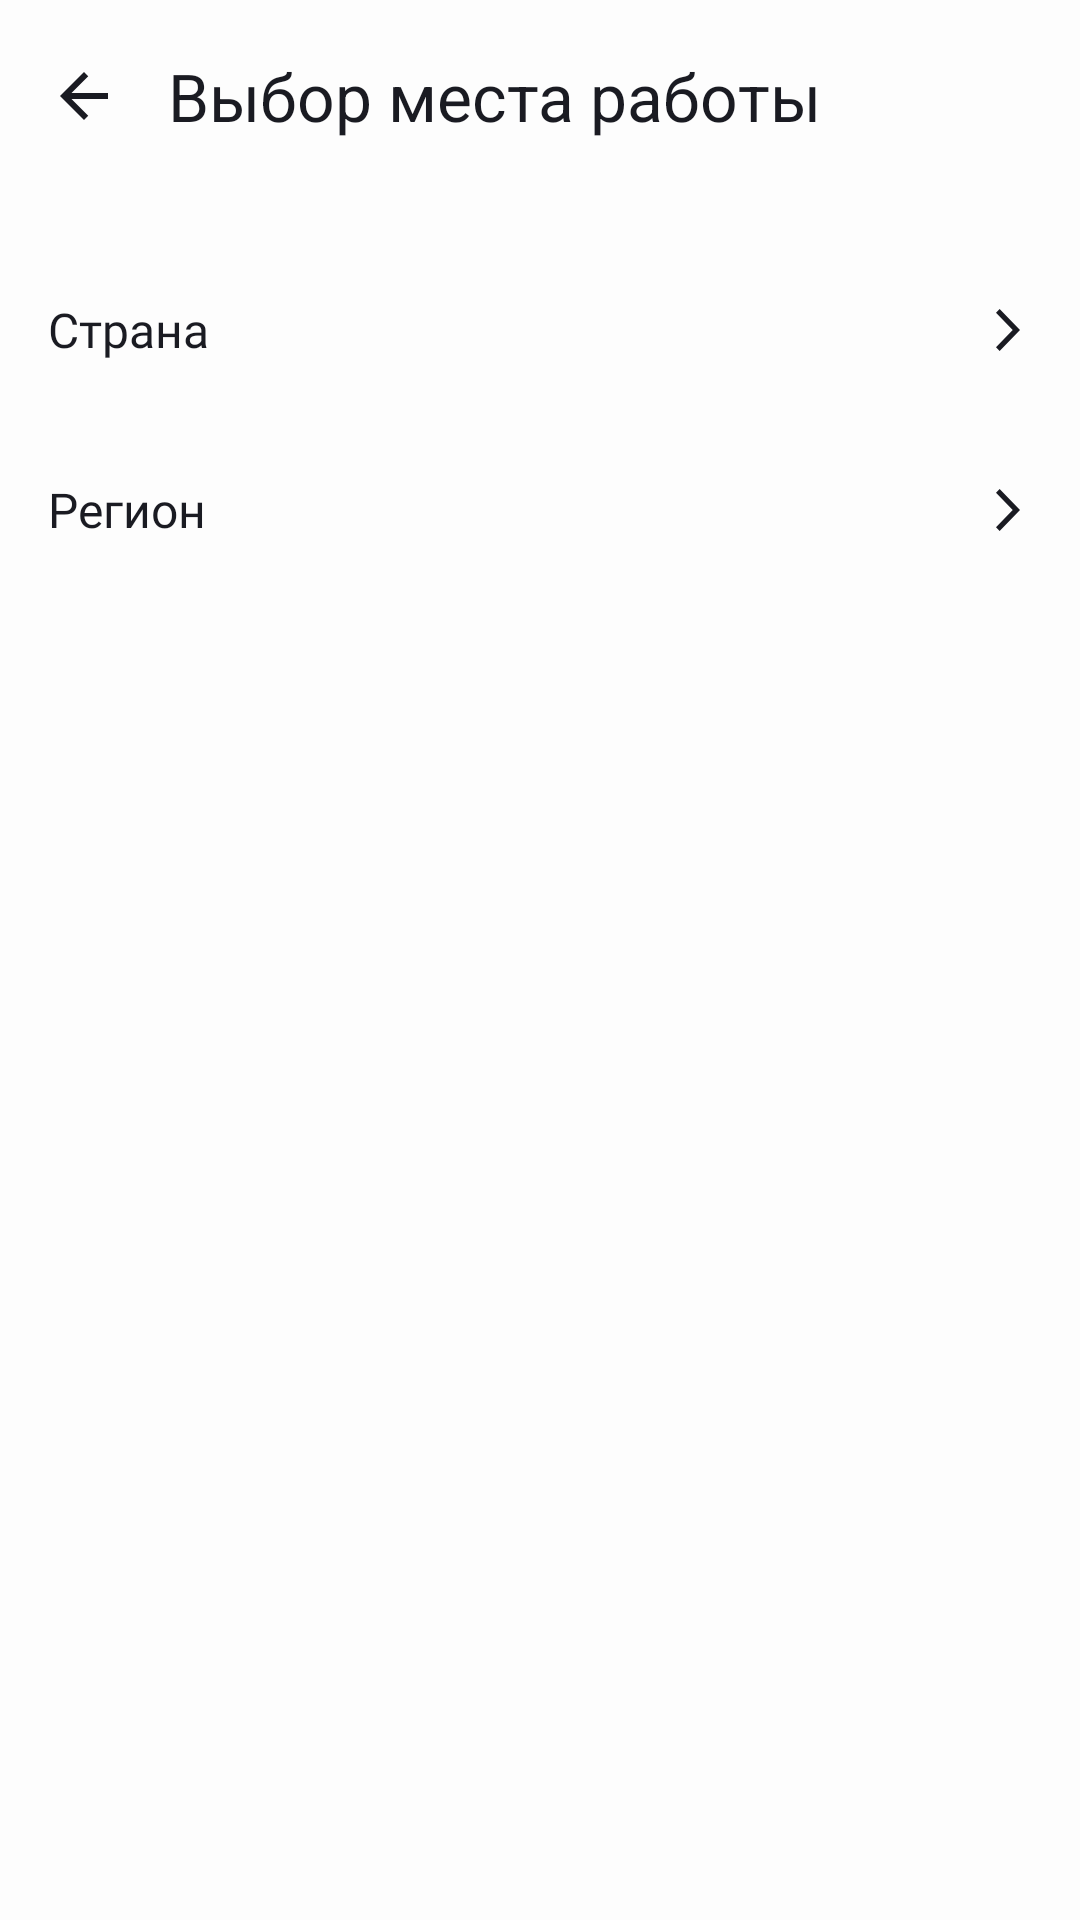

Icons on this 1080×1920 Android screen, each with the point to tap as (x=x, y=y):
arrow back: (x=84, y=96)
